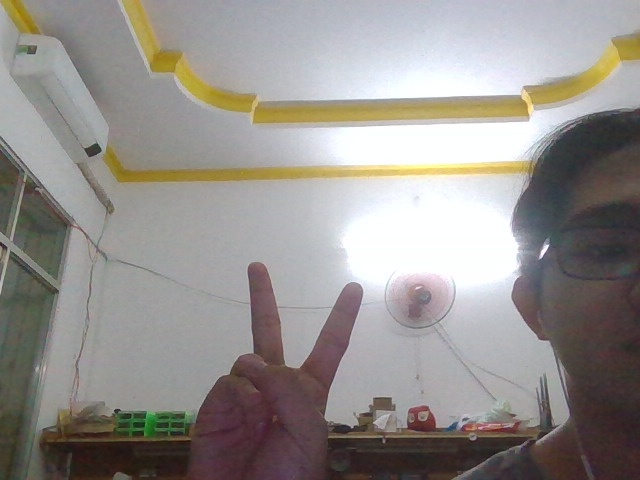hello: (164, 245, 385, 480)
